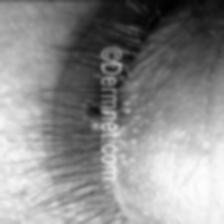Potentially Malignant Skin Tumors: (86, 113, 102, 135)
